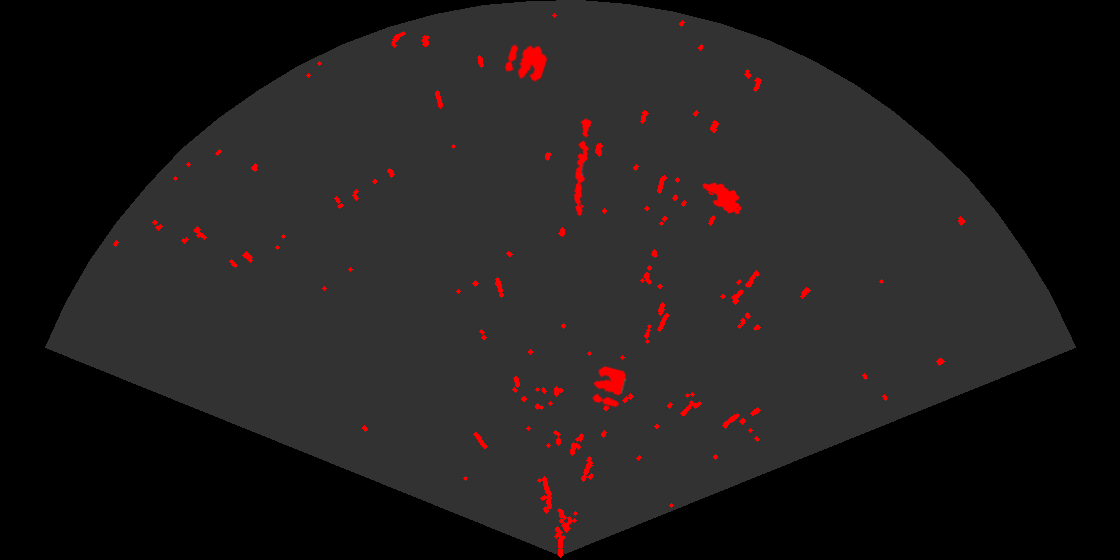AUV: (701, 181, 743, 216)
ball: (503, 43, 549, 83), (590, 364, 628, 409)
chain: (572, 116, 593, 217)
